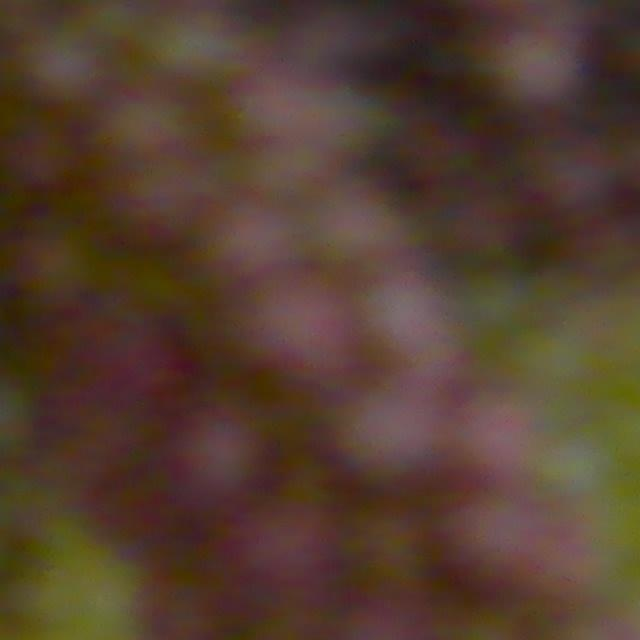SeaGrape: (168, 411, 277, 518), (232, 507, 341, 608), (341, 391, 446, 485), (116, 144, 211, 236), (483, 8, 571, 106), (383, 270, 469, 367), (264, 278, 343, 364), (22, 28, 103, 108), (448, 475, 523, 559)
